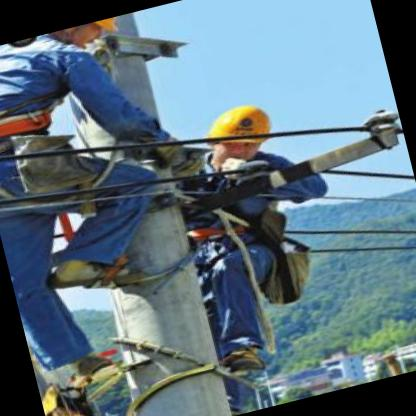helmet: (194, 92, 288, 173), (34, 13, 138, 60)
